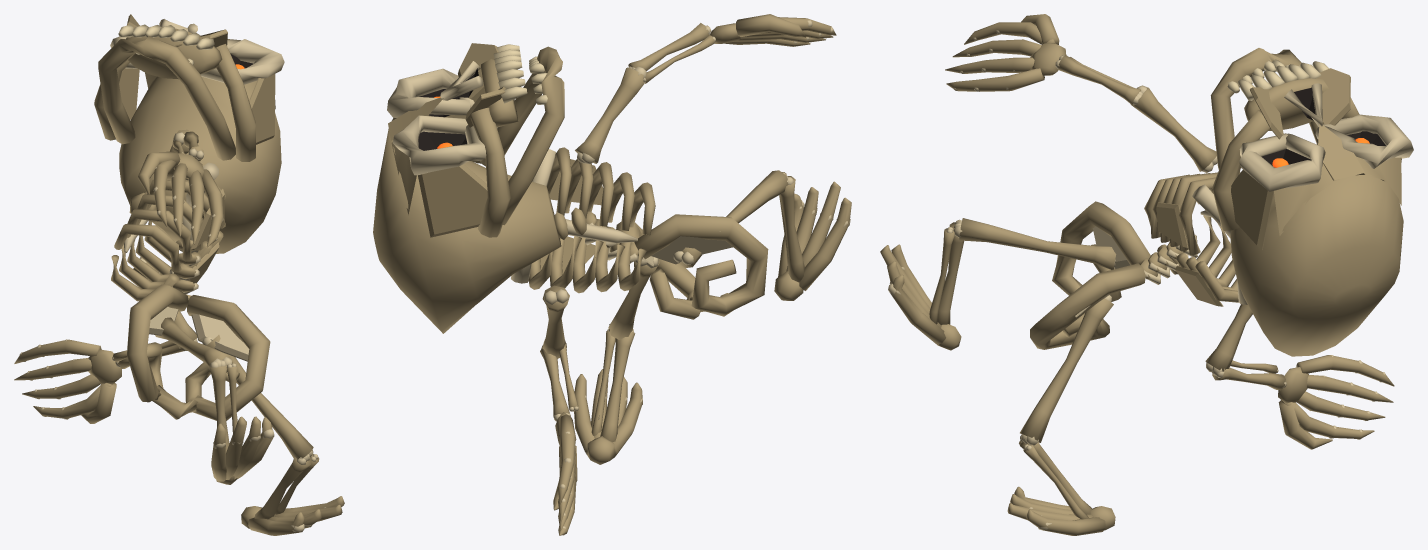
File: stalchildren.glb
3 views of the same model, side by side, from view 1: azimuth 30°, elevation 25°; view 2: azimuth 150°, elevation 25°; view 3: azimuth 270°, elevation 25° (orthographic). The views are drawn at different scales.
Parts seen in each view (by area): view 1: Stalchild.0.11.cranial vault, Stalchild.0.12.continuous articulated mandible, Stalchild.0.02.open pelvic rim.001, Stalchild.0.02.open pelvic rim, Stalchild.0.11.zygomatic arch.001, Stalchild.0.11.sculpted orbital rim.001, Stalchild.0.11.upper dental arch, Stalchild.0.07.femur, Stalchild.0.11.temporal wall.001, Stalchild.0.02.flared iliac crest.001, Stalchild.0.04.femur, Stalchild.0.10.separate curved rib.009 (+32 smaller); view 2: Stalchild.0.11.cranial vault, Stalchild.0.02.open pelvic rim, Stalchild.0.12.continuous articulated mandible, Stalchild.0.11.temporal wall, Stalchild.0.11.sculpted orbital rim, Stalchild.0.11.zygomatic arch, Stalchild.0.11.sculpted orbital rim.001, Stalchild.0.02.open pelvic rim.001, Stalchild.0.16.humerus, Stalchild.0.04.femur, Stalchild.0.08.radius or tibia, Stalchild.0.06.arched metatarsal and toe (+33 smaller); view 3: Stalchild.0.11.cranial vault, Stalchild.0.02.open pelvic rim.001, Stalchild.0.02.open pelvic rim, Stalchild.0.11.sculpted orbital rim.001, Stalchild.0.12.continuous articulated mandible, Stalchild.0.04.femur, Stalchild.0.11.sculpted orbital rim, Stalchild.0.07.femur, Stalchild.0.11.zygomatic arch.001, Stalchild.0.11.temporal wall.001, Stalchild.0.16.humerus, Stalchild.0.11.upper dental arch (+30 smaller).
Part boxes in pixels (bbox=[...]): Stalchild.0.11.cranial vault: bbox=[119, 76, 281, 253]; Stalchild.0.12.continuous articulated mandible: bbox=[98, 36, 235, 160]; Stalchild.0.02.open pelvic rim.001: bbox=[185, 295, 270, 420]; Stalchild.0.02.open pelvic rim: bbox=[127, 284, 188, 402]; Stalchild.0.11.zygomatic arch.001: bbox=[216, 44, 255, 161]; Stalchild.0.11.sculpted orbital rim.001: bbox=[200, 39, 284, 84]; Stalchild.0.11.upper dental arch: bbox=[126, 27, 222, 79]; Stalchild.0.07.femur: bbox=[206, 335, 313, 459]; Stalchild.0.11.temporal wall.001: bbox=[249, 74, 275, 144]; Stalchild.0.02.flared iliac crest.001: bbox=[191, 314, 249, 361]; Stalchild.0.04.femur: bbox=[155, 317, 232, 372]; Stalchild.0.10.separate curved rib.009: bbox=[114, 224, 181, 272]; Stalchild.0.11.cranial vault: bbox=[373, 129, 561, 333]; Stalchild.0.02.open pelvic rim: bbox=[634, 214, 768, 316]; Stalchild.0.12.continuous articulated mandible: bbox=[479, 46, 564, 225]; Stalchild.0.11.temporal wall: bbox=[418, 164, 487, 237]; Stalchild.0.11.sculpted orbital rim: bbox=[392, 115, 486, 175]; Stalchild.0.11.zygomatic arch: bbox=[470, 107, 510, 237]; Stalchild.0.11.sculpted orbital rim.001: bbox=[387, 68, 474, 117]; Stalchild.0.02.open pelvic rim.001: bbox=[616, 221, 700, 319]; Stalchild.0.16.humerus: bbox=[575, 67, 645, 163]; Stalchild.0.04.femur: bbox=[679, 170, 788, 267]; Stalchild.0.08.radius or tibia: bbox=[600, 331, 635, 441]; Stalchild.0.06.arched metatarsal and toe: bbox=[799, 197, 851, 290]; Stalchild.0.11.cranial vault: bbox=[1230, 174, 1403, 356]; Stalchild.0.02.open pelvic rim.001: bbox=[1030, 263, 1145, 349]; Stalchild.0.02.open pelvic rim: bbox=[1052, 201, 1150, 301]; Stalchild.0.11.sculpted orbital rim.001: bbox=[1239, 133, 1325, 191]; Stalchild.0.12.continuous articulated mandible: bbox=[1210, 48, 1333, 180]; Stalchild.0.04.femur: bbox=[959, 218, 1116, 269]; Stalchild.0.11.sculpted orbital rim: bbox=[1315, 114, 1413, 168]; Stalchild.0.07.femur: bbox=[1020, 298, 1113, 442]; Stalchild.0.11.zygomatic arch.001: bbox=[1212, 110, 1270, 230]; Stalchild.0.11.temporal wall.001: bbox=[1231, 170, 1273, 250]; Stalchild.0.16.humerus: bbox=[1130, 87, 1216, 171]; Stalchild.0.11.upper dental arch: bbox=[1244, 78, 1328, 130].
Bounding box in the file's own units: 31.61 × 50 × 51.79.
